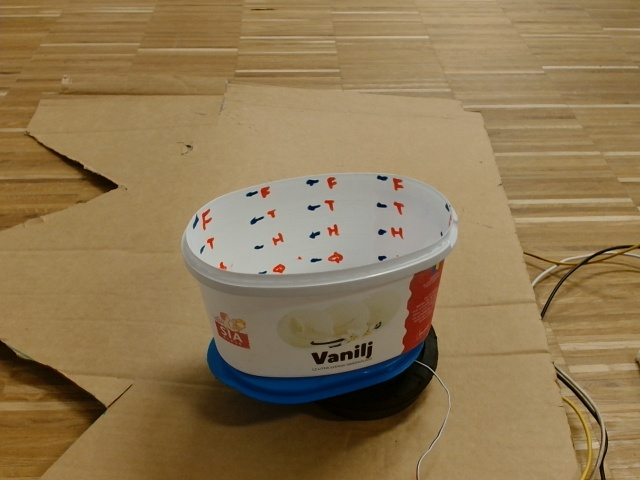Big_zero: (179, 171, 463, 291)
